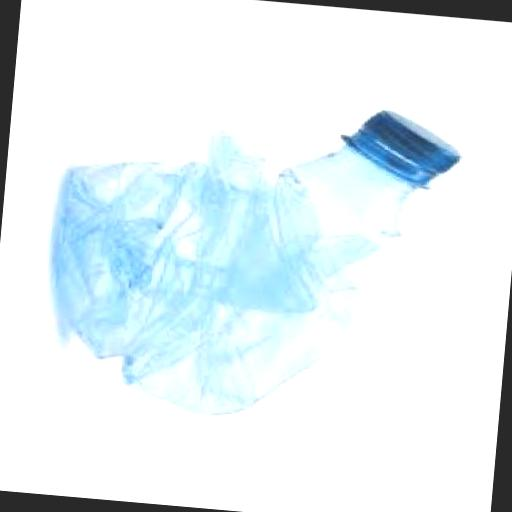plastic: (42, 84, 468, 435), (340, 108, 471, 190)
